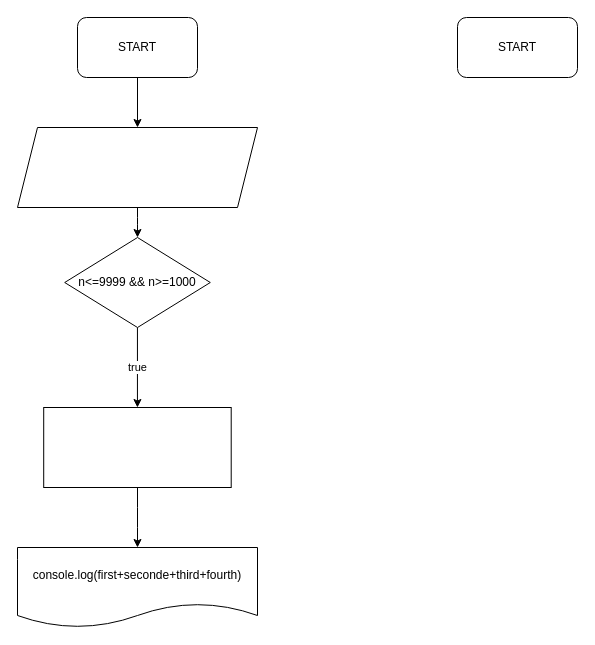
Some shapes in this 595 by 645 pixel diagram are drawn without their labels. The shapes that lost their labels are listed below. From the top down, each one's box as (x1, y1, x2, y2) in pixels, then its label:
(16, 126, 258, 208): var n , first , second , third , fourth;
(43, 406, 231, 488): n%10*1000=first n%100/10*100=second n%1000/110*10=third n%10000/1110=fourth
